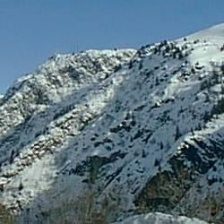neutral: (3, 11, 222, 224)
